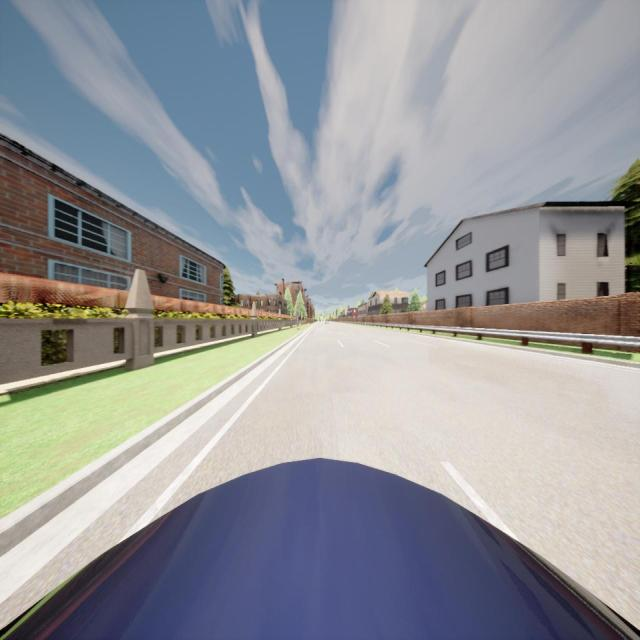Traffic_Signs: (296, 311, 300, 317)
Vehicle: (0, 458, 640, 638), (325, 319, 329, 325)
